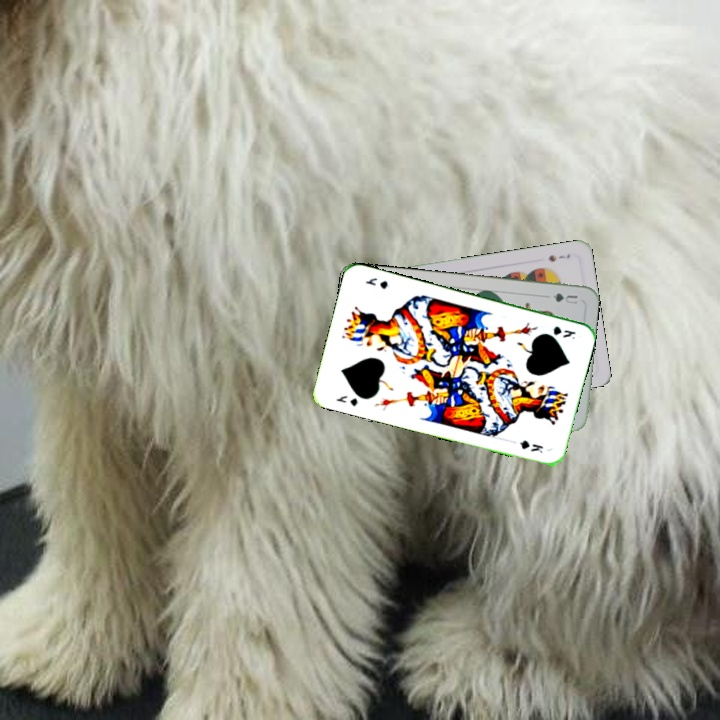GK: (549, 322, 578, 342), (332, 391, 360, 409)
GU: (548, 289, 580, 306)
S7: (544, 250, 573, 264)
